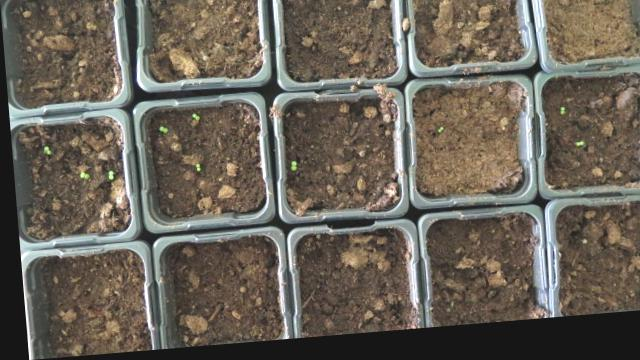weed: (284, 163, 295, 176), (153, 126, 167, 136), (73, 171, 88, 180), (186, 115, 200, 124), (188, 164, 199, 175), (567, 148, 582, 155), (431, 131, 442, 140), (554, 114, 563, 124), (102, 171, 111, 181), (38, 146, 49, 154)
